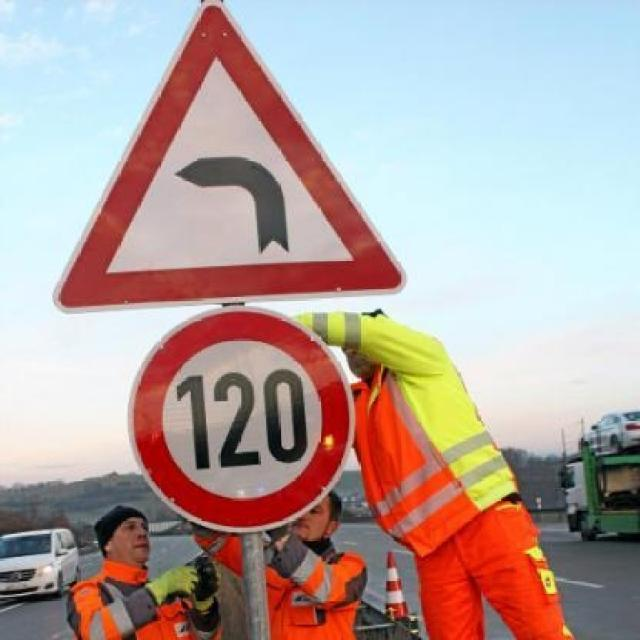forb_speed_over_120: (131, 308, 351, 530)
